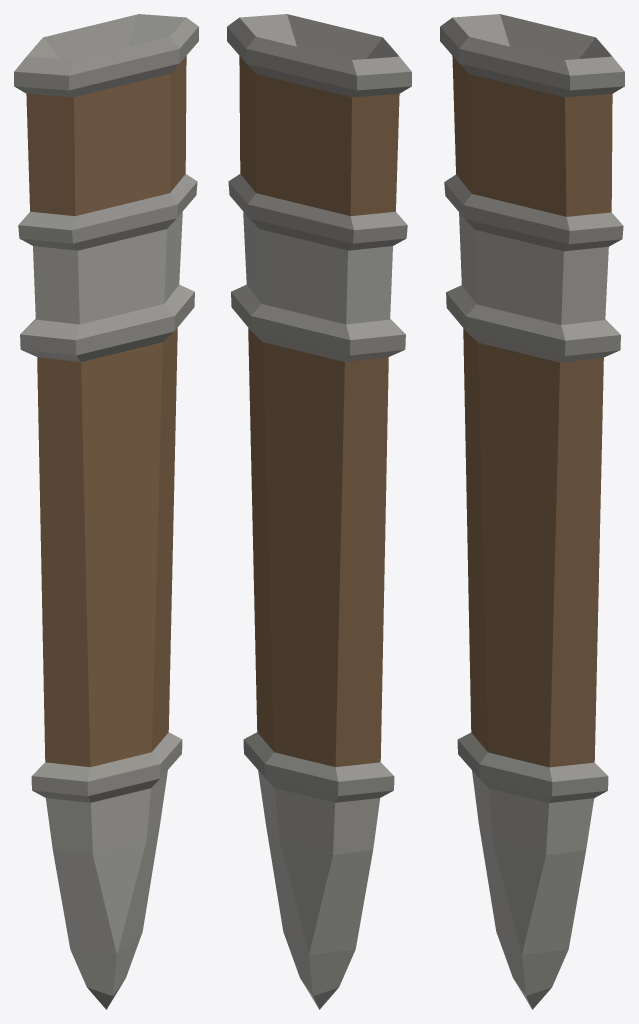
Rendered from SM_pwe_medieval_dagger_scabbard_01.fbx.
The picture shows the model from 3 angles, left to right: view 1: azimuth 30°, elevation 25°; view 2: azimuth 150°, elevation 25°; view 3: azimuth 330°, elevation 25°; orthographic projection.
Parts seen in each view (by area): view 1: SM_pwe_medieval_dagger_scabbard_01; view 2: SM_pwe_medieval_dagger_scabbard_01; view 3: SM_pwe_medieval_dagger_scabbard_01.
Part boxes in pixels (x1,y1,x2,y2): SM_pwe_medieval_dagger_scabbard_01: (14,14,198,1009); SM_pwe_medieval_dagger_scabbard_01: (227,14,411,1009); SM_pwe_medieval_dagger_scabbard_01: (440,14,624,1009).
Bounding box in the file's own units: 7.68 × 38.65 × 2.58.
